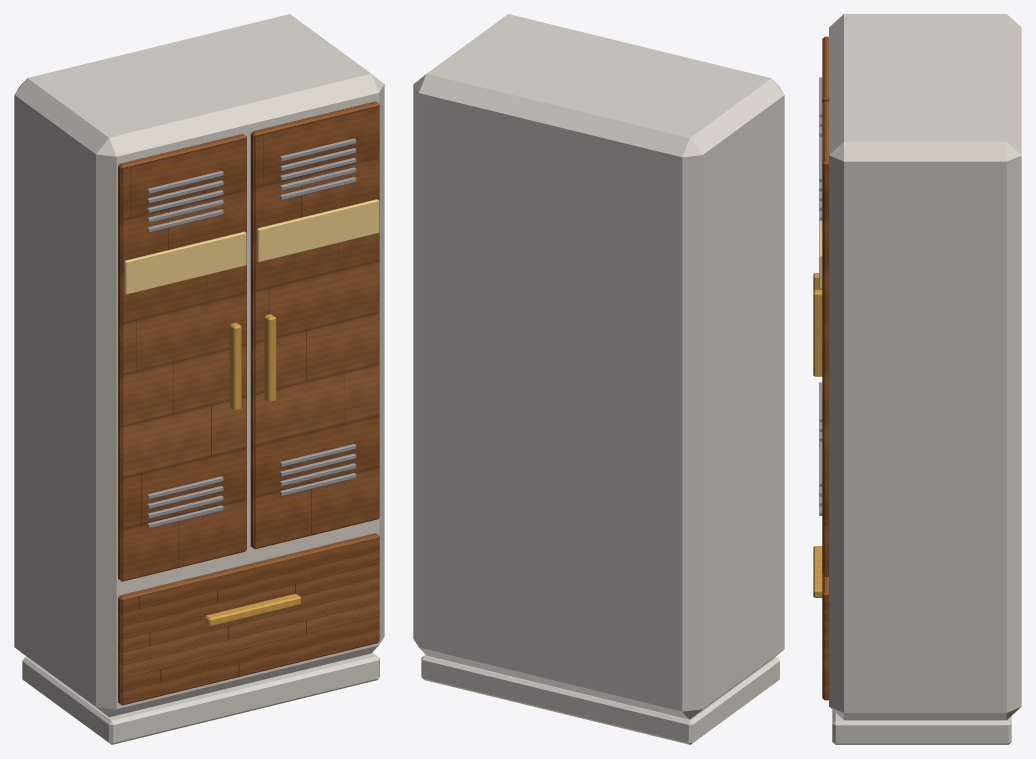
The model's file is wardrobe_locker.glb.
3 views of the same model, side by side, from view 1: azimuth 30°, elevation 25°; view 2: azimuth 150°, elevation 25°; view 3: azimuth 270°, elevation 25° (orthographic).
Visible parts, largest first — view 1: Wardrobe_DoorsAndBootDrawer, Wardrobe_CabinetHull, Wardrobe_CrewStatusStripe, Wardrobe_LouverVents, Wardrobe_BrassHandles; view 2: Wardrobe_CabinetHull; view 3: Wardrobe_CabinetHull, Wardrobe_DoorsAndBootDrawer, Wardrobe_BrassHandles, Wardrobe_LouverVents.
Boxes of the visible parts, <box> form: Wardrobe_DoorsAndBootDrawer: <box>118,101,379,705</box>; Wardrobe_CabinetHull: <box>14,14,384,744</box>; Wardrobe_CrewStatusStripe: <box>124,199,379,294</box>; Wardrobe_LouverVents: <box>147,138,356,528</box>; Wardrobe_BrassHandles: <box>205,314,300,626</box>; Wardrobe_CabinetHull: <box>413,14,784,744</box>; Wardrobe_CabinetHull: <box>829,14,1021,744</box>; Wardrobe_DoorsAndBootDrawer: <box>822,36,828,700</box>; Wardrobe_BrassHandles: <box>813,273,822,597</box>; Wardrobe_LouverVents: <box>819,77,822,515</box>.
Size of the model in its own units: 1 by 2 by 0.6275.
5 materials, 2 textured.
